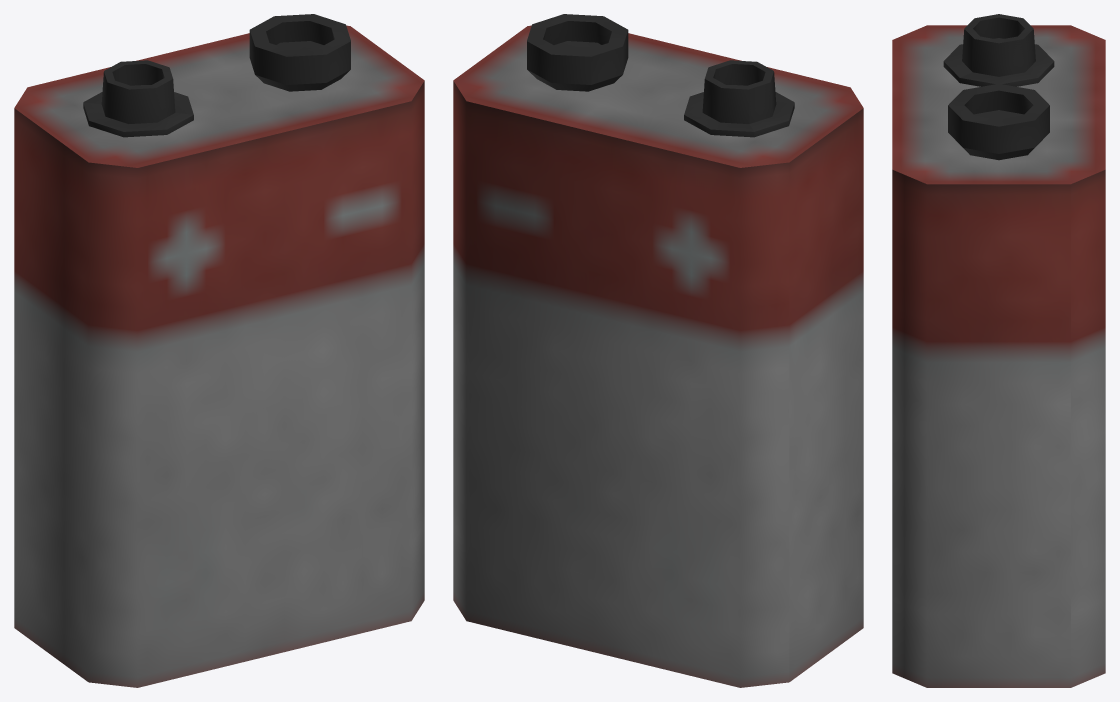
The model's file is battery_mp_3_1.obj.
The picture shows the model from 3 angles, left to right: view 1: azimuth 30°, elevation 25°; view 2: azimuth 150°, elevation 25°; view 3: azimuth 270°, elevation 25°; orthographic projection. The views are drawn at different scales.
Visible parts, largest first — view 1: battery_mp_3_1; view 2: battery_mp_3_1; view 3: battery_mp_3_1.
Part boxes in pixels (x1,y1,x2,y2): battery_mp_3_1: (14, 14, 424, 687); battery_mp_3_1: (453, 14, 863, 687); battery_mp_3_1: (892, 14, 1105, 687).
Size of the model in its own units: 0.0648 by 0.103 by 0.0368.
